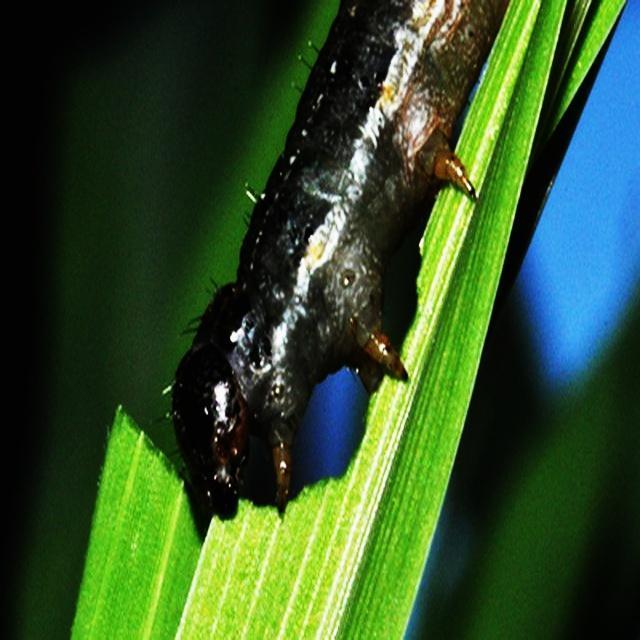gusano_cogollero: (173, 4, 500, 522)
